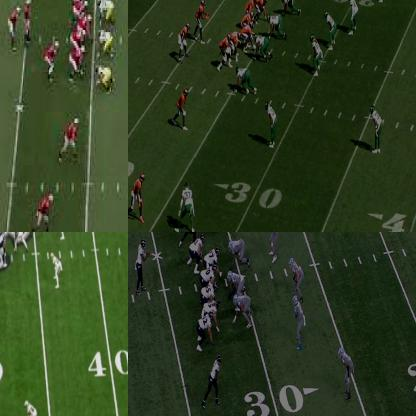CENTER: (206, 246, 222, 266), (241, 24, 254, 48), (82, 12, 92, 43)
DB: (339, 345, 354, 397), (182, 183, 195, 231), (264, 100, 276, 148), (371, 108, 381, 153), (23, 398, 38, 415)
LB: (290, 255, 304, 306), (312, 38, 326, 76), (294, 296, 304, 345), (50, 252, 62, 289), (325, 10, 336, 49), (264, 232, 277, 262), (348, 0, 359, 33), (55, 232, 67, 241)
QB: (134, 236, 148, 296), (195, 0, 207, 38), (23, 0, 31, 42)
SKILL: (31, 191, 55, 231), (59, 118, 80, 160), (207, 354, 223, 407), (128, 170, 145, 217), (43, 41, 59, 81), (197, 313, 214, 348), (175, 89, 188, 129), (7, 3, 19, 46), (179, 23, 191, 63), (207, 299, 220, 333), (0, 232, 8, 268), (258, 0, 267, 22)
